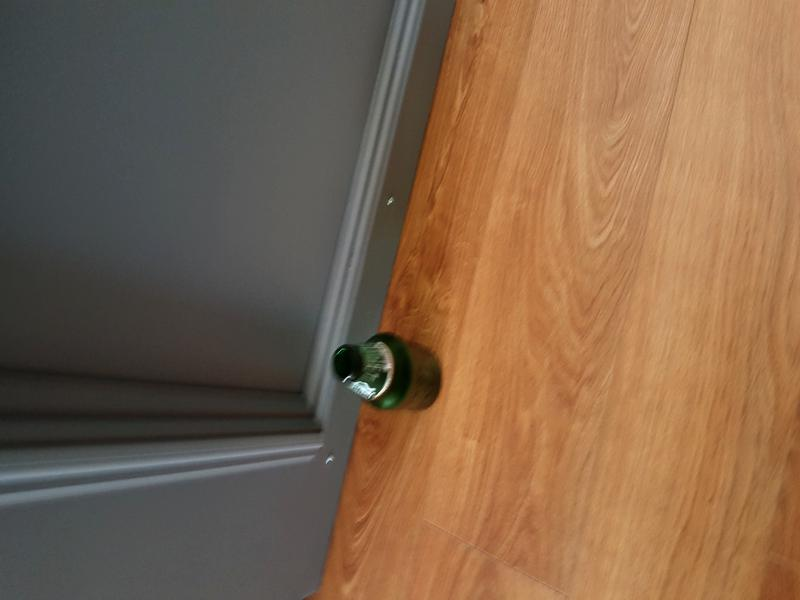Beer: (333, 334, 440, 409)
